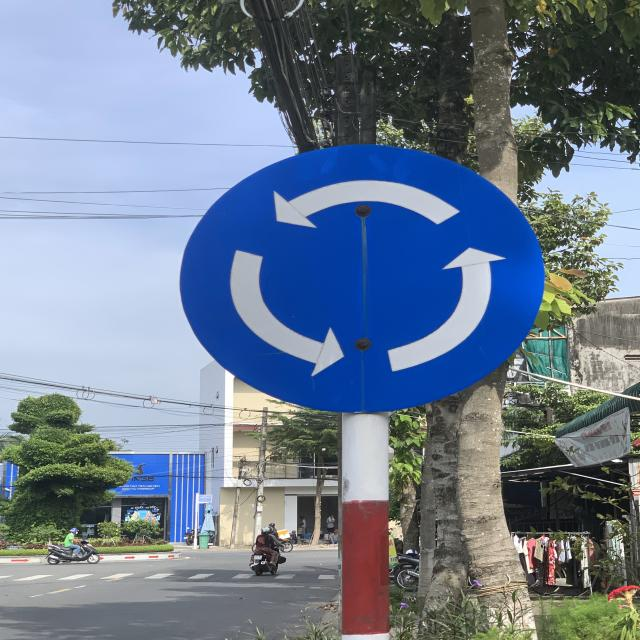Xe_Bus: (180, 143, 548, 416)
